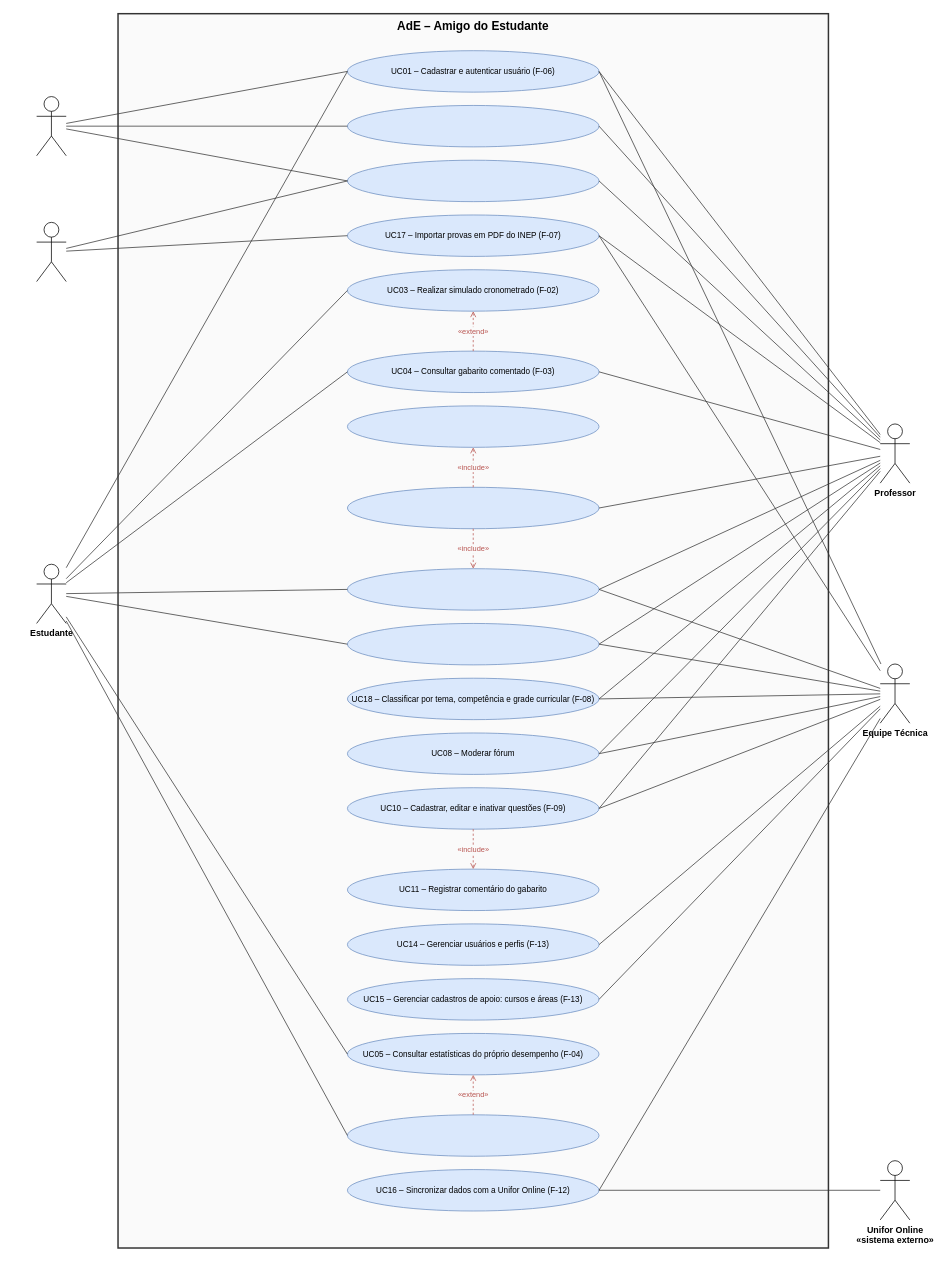
This 946x1261 diagram has some shape labels left out. Each missing label, with the box of its shape:
Coordenação: (36, 96, 66, 156)
INEP «sistema externo»: (36, 222, 66, 282)
UC02 – Consultar banco de questões (F-01): (347, 568, 599, 610)
UC06 – Comparar com a média da turma (anônima): (347, 1114, 599, 1156)
UC07 – Participar do fórum de discussão (F-05): (347, 623, 599, 665)
UC09 – Acompanhar desempenho de turmas e alunos (F-11): (347, 105, 599, 147)
UC12 – Criar e gerenciar simulados (F-10): (347, 487, 599, 529)
UC13 – Publicar simulado para turmas: (347, 405, 599, 447)
UC19 – Comparar desempenho com estatísticas oficiais do INEP (F-14): (347, 159, 599, 202)
